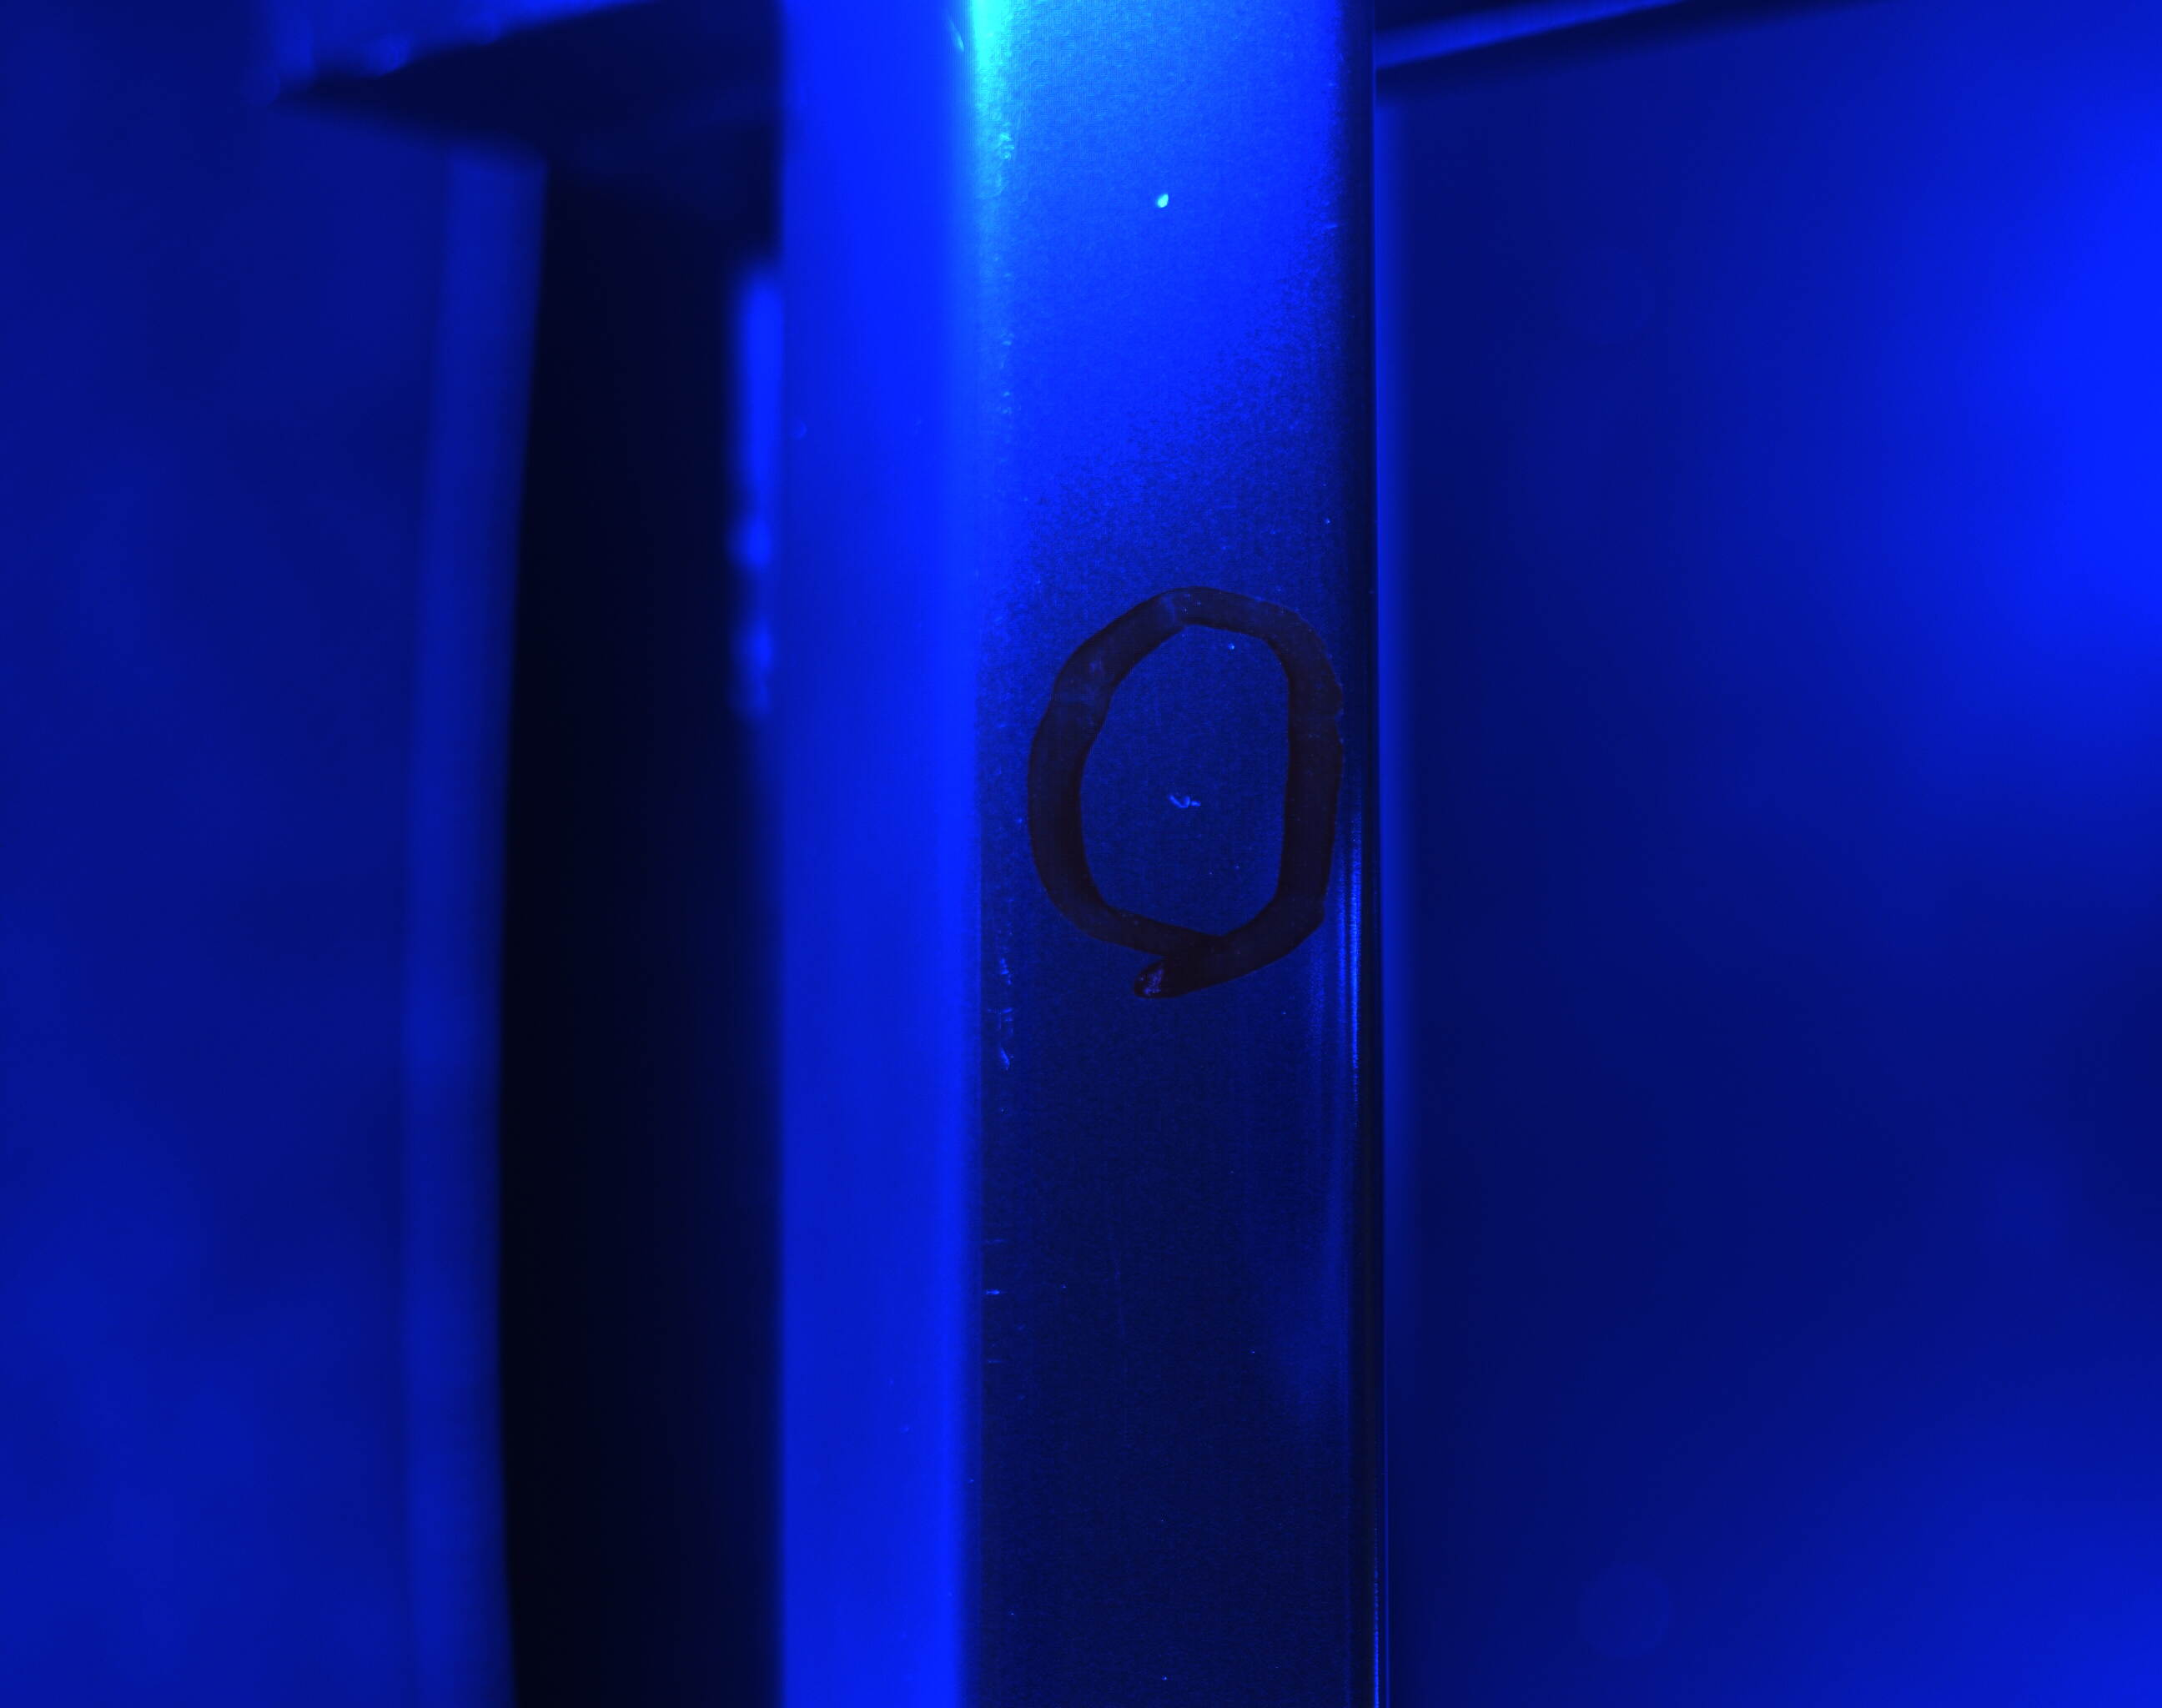NG: (1158, 758, 1220, 834), (1144, 172, 1193, 237)
